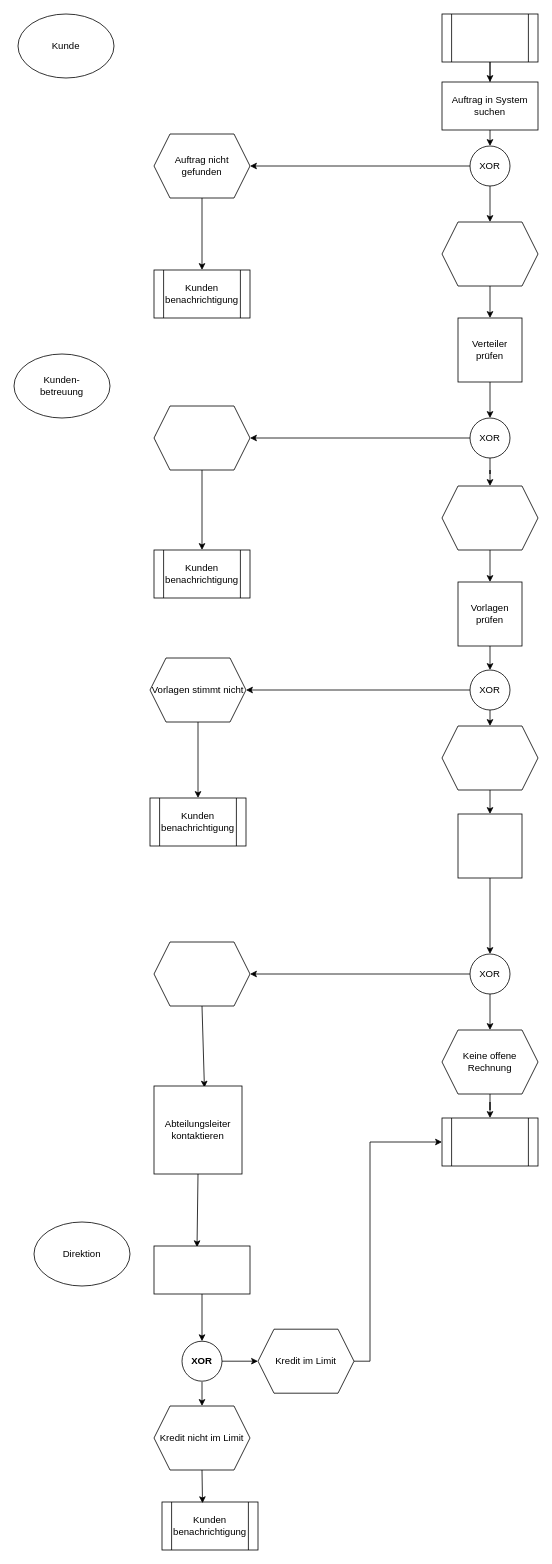
Some shapes in this 552 by 1564 pixel diagram are drawn without their labels. The shapes that lost their labels are listed below. From the top down, each one's centre as x and y in pixels, then its label:
the point at 489,37: Auftragsfreigabe per Email
the point at 489,253: Auftrag gefunden
the point at 201,437: Verteiler stimmt nicht
the point at 489,517: Verteiler Stimmt
the point at 489,757: Vorlagen Stimmt
the point at 489,845: Mahnstufen und offene Rechnungen
the point at 201,973: Offene Rechnung
the point at 489,1141: Auftrag freigeben
the point at 201,1269: Kreditwürdigkeit prüfen
